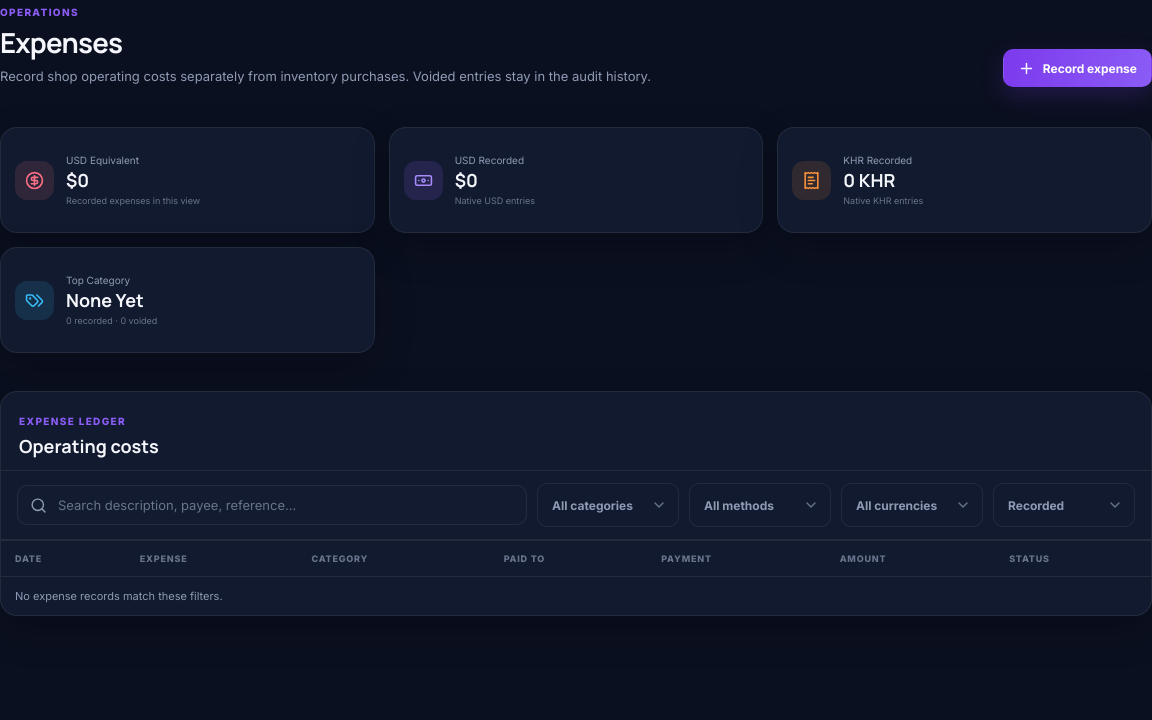
it: ExpensePage › opens the record form with today-safe fields and an explicit create action
The width and height of the screenshot is (1152, 720).
Click the button "Record expense".
click(1077, 68)  # box [1003,49,1151,87]
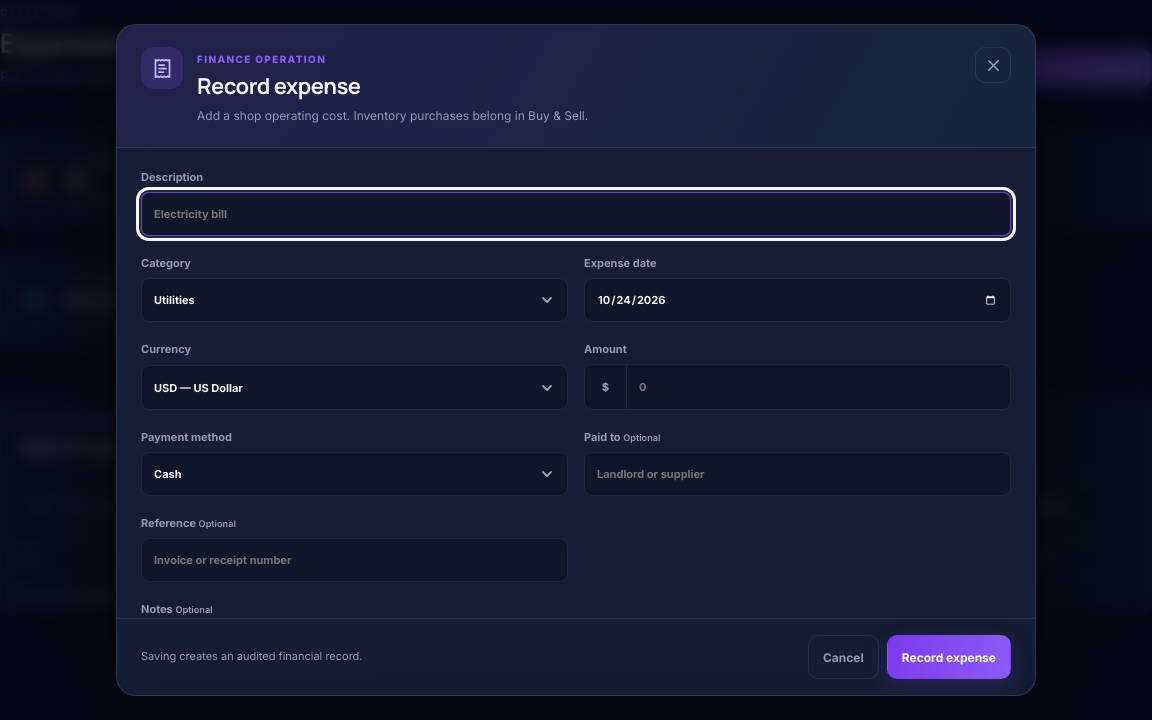
Expected: the form with class "expense-form" is shown
Expected: the element with class "expense-form-grid" is shown, [141,170,1011,695]
Expected: the footer with class "expense-modal-actions" is shown, [117,618,1035,695]
